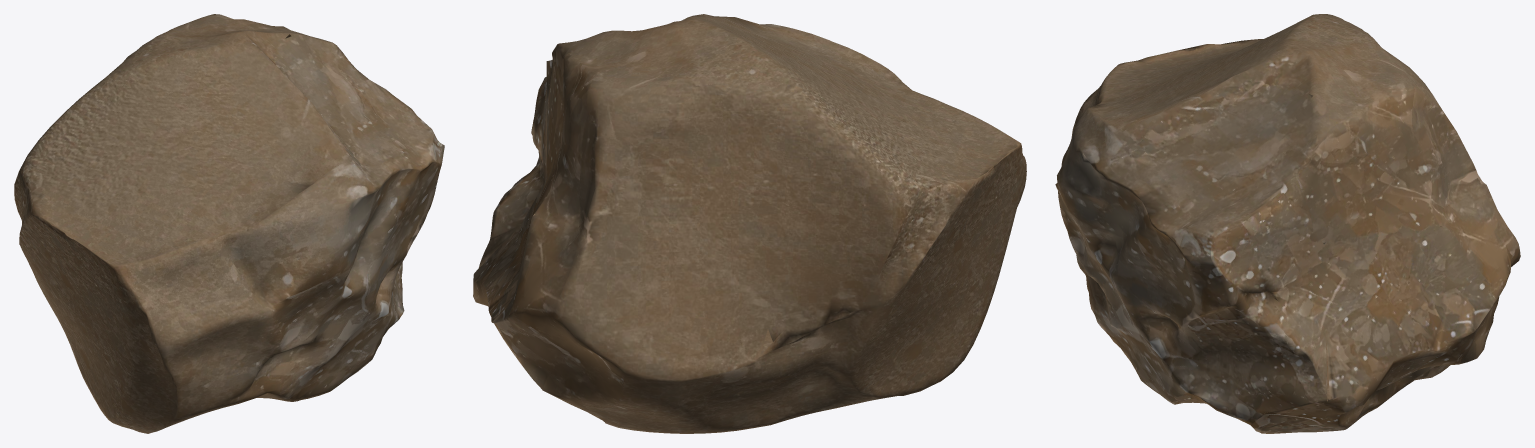
File: q3d-08-mid-l0.glb
3 views of the same model, side by side, from view 1: azimuth 30°, elevation 25°; view 2: azimuth 150°, elevation 25°; view 3: azimuth 270°, elevation 25° (orthographic). The views are drawn at different scales.
Size of the model in its own units: 1.35 by 1.01 by 1.29.
1 material, 1 textured.
